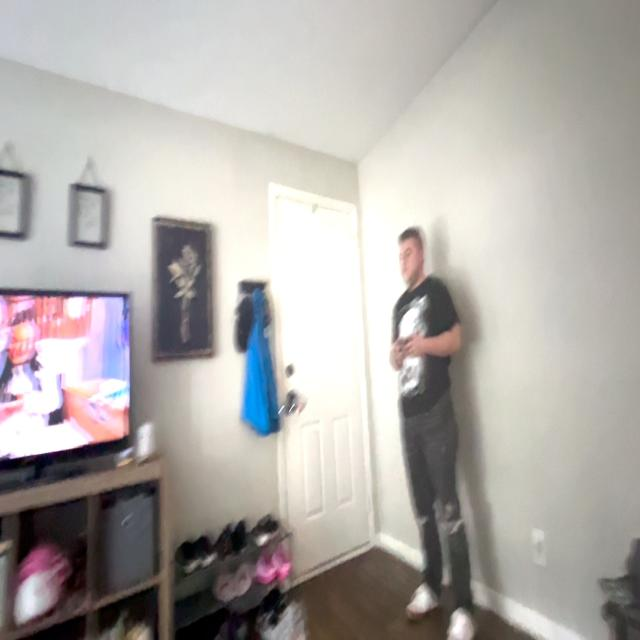drone: (259, 391, 314, 431)
